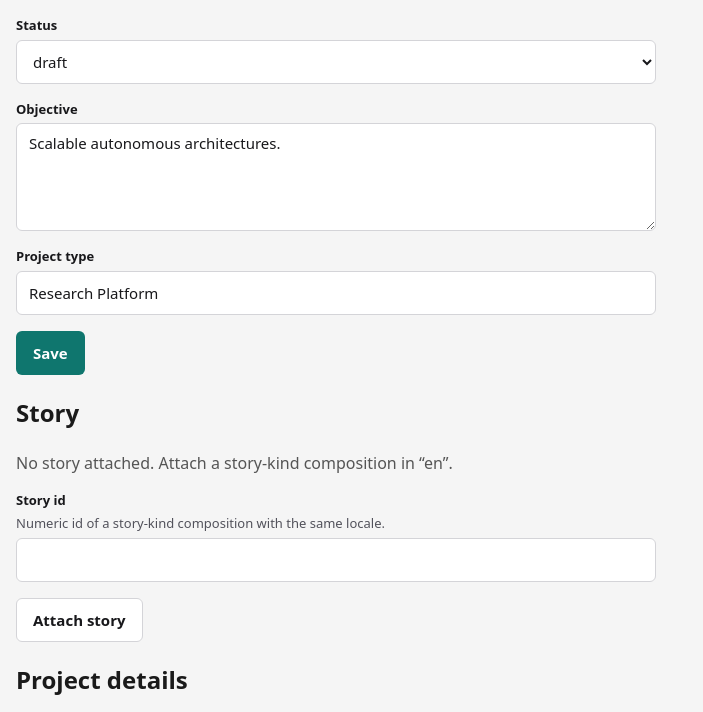
Test: PU-25 component journeys with mocked HTTP (not live E2E) › handles 409 conflict when saving against a stale revision
(page scrolled)
Click the button "Save" at (50,353), box [16,331,85,375]
(page scrolled)
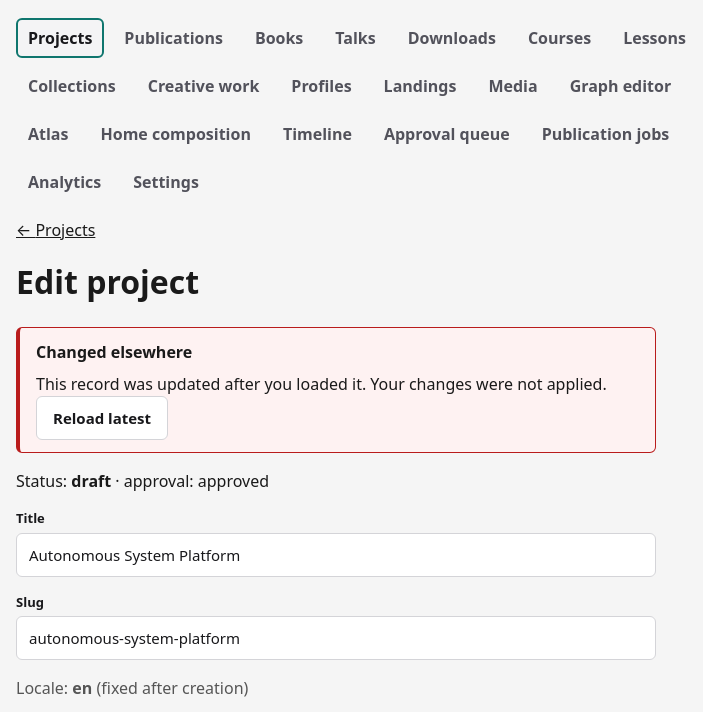
Check: the text "Changed elsewhere" is shown, box [36,341,192,363]
